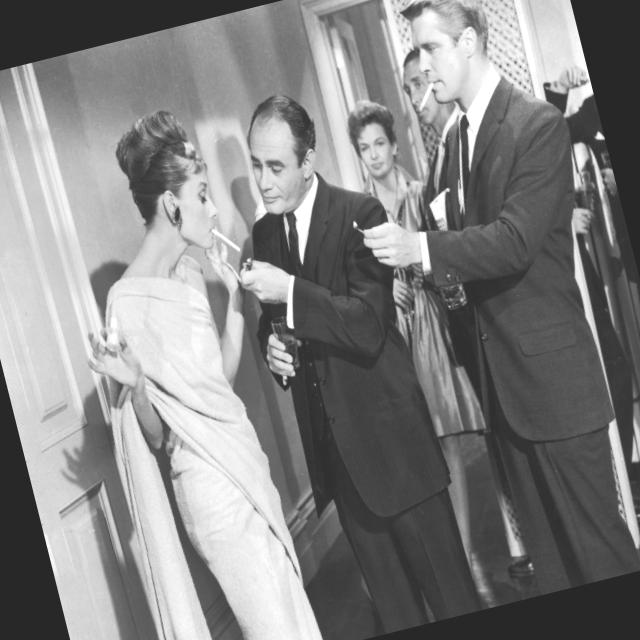smoke: (207, 222, 245, 264)
